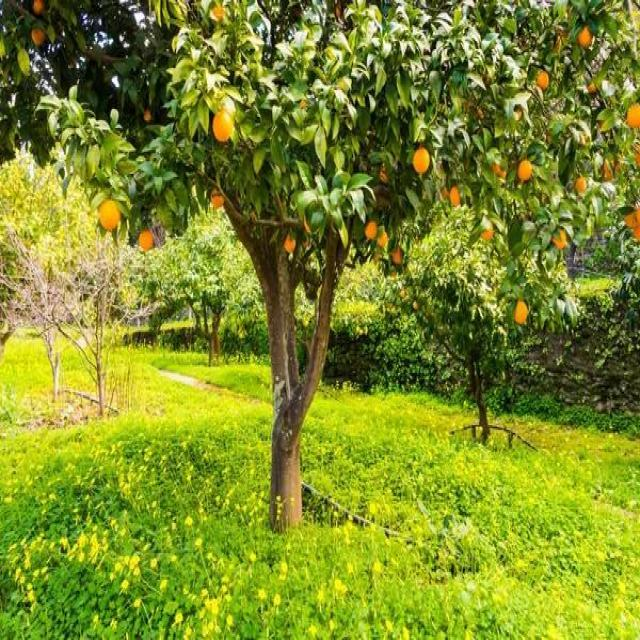Jeruk Sudah Matang: (214, 109, 234, 142), (100, 200, 121, 230), (413, 147, 430, 174), (512, 300, 528, 324), (138, 231, 156, 251), (552, 228, 568, 250), (478, 218, 493, 240), (518, 160, 534, 180), (625, 207, 640, 228), (32, 26, 47, 46), (211, 186, 225, 206), (284, 232, 296, 255), (364, 221, 378, 240), (628, 106, 640, 128), (32, 0, 47, 17), (538, 71, 550, 90), (451, 186, 462, 206), (576, 176, 588, 194), (377, 230, 387, 247), (393, 248, 403, 264), (142, 110, 152, 122), (588, 82, 598, 93), (635, 145, 640, 164), (634, 227, 640, 241), (373, 254, 379, 264)
